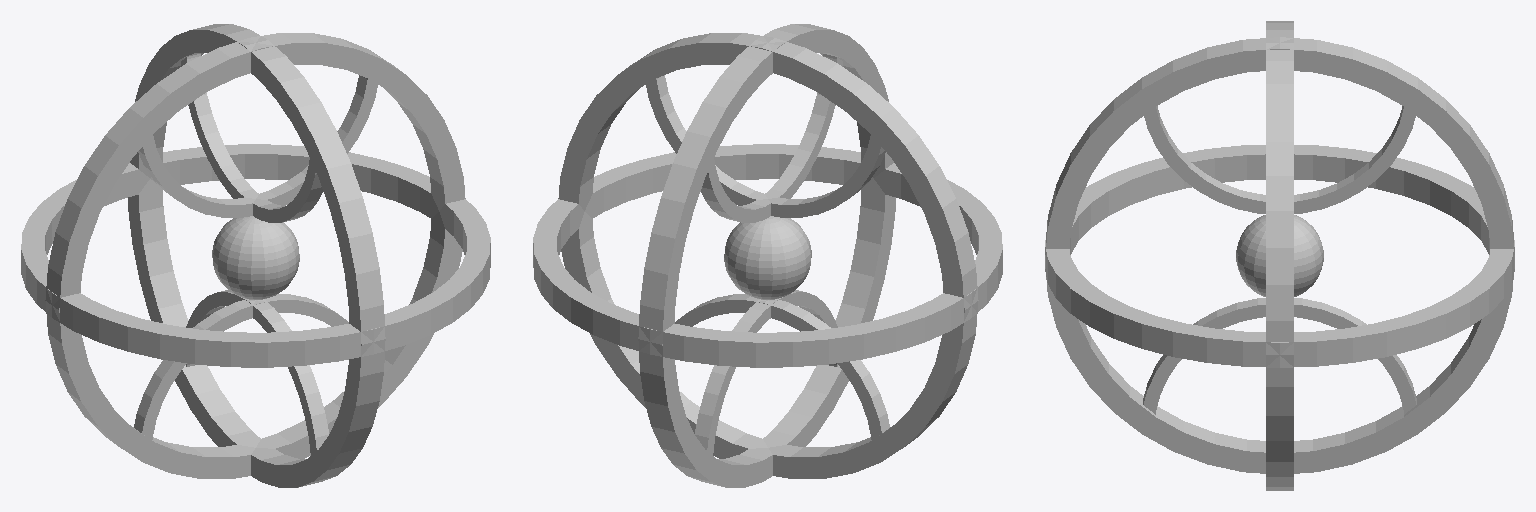
File: Bomb New.obj
3 renders of one model, left to right at view 1: azimuth 30°, elevation 25°; view 2: azimuth 150°, elevation 25°; view 3: azimuth 270°, elevation 25°, orthographic.
Parts seen in each view (by area): view 1: pPipe8; view 2: pPipe8; view 3: pPipe8.
Boxes of the visible parts, x1,y1,x2,y2 form: pPipe8: [21, 24, 490, 487]; pPipe8: [533, 24, 1002, 487]; pPipe8: [1045, 21, 1514, 490].
Size of the model in its own units: 12.48 by 12.48 by 12.48.